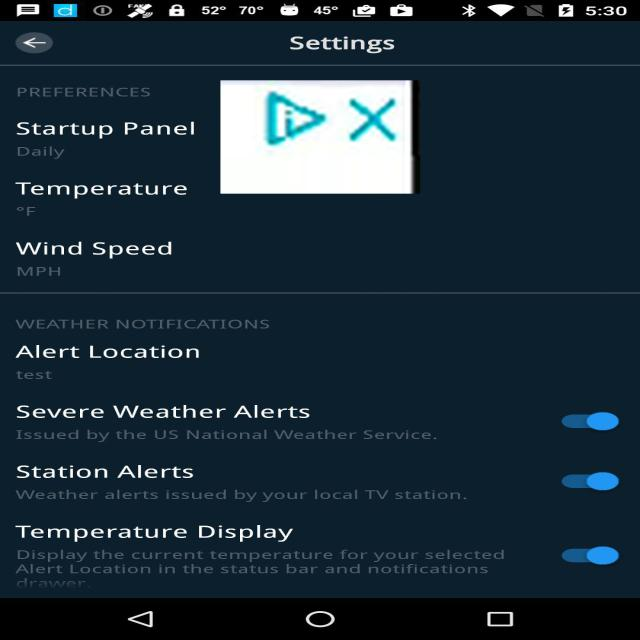sneaking: (221, 80, 420, 194)
